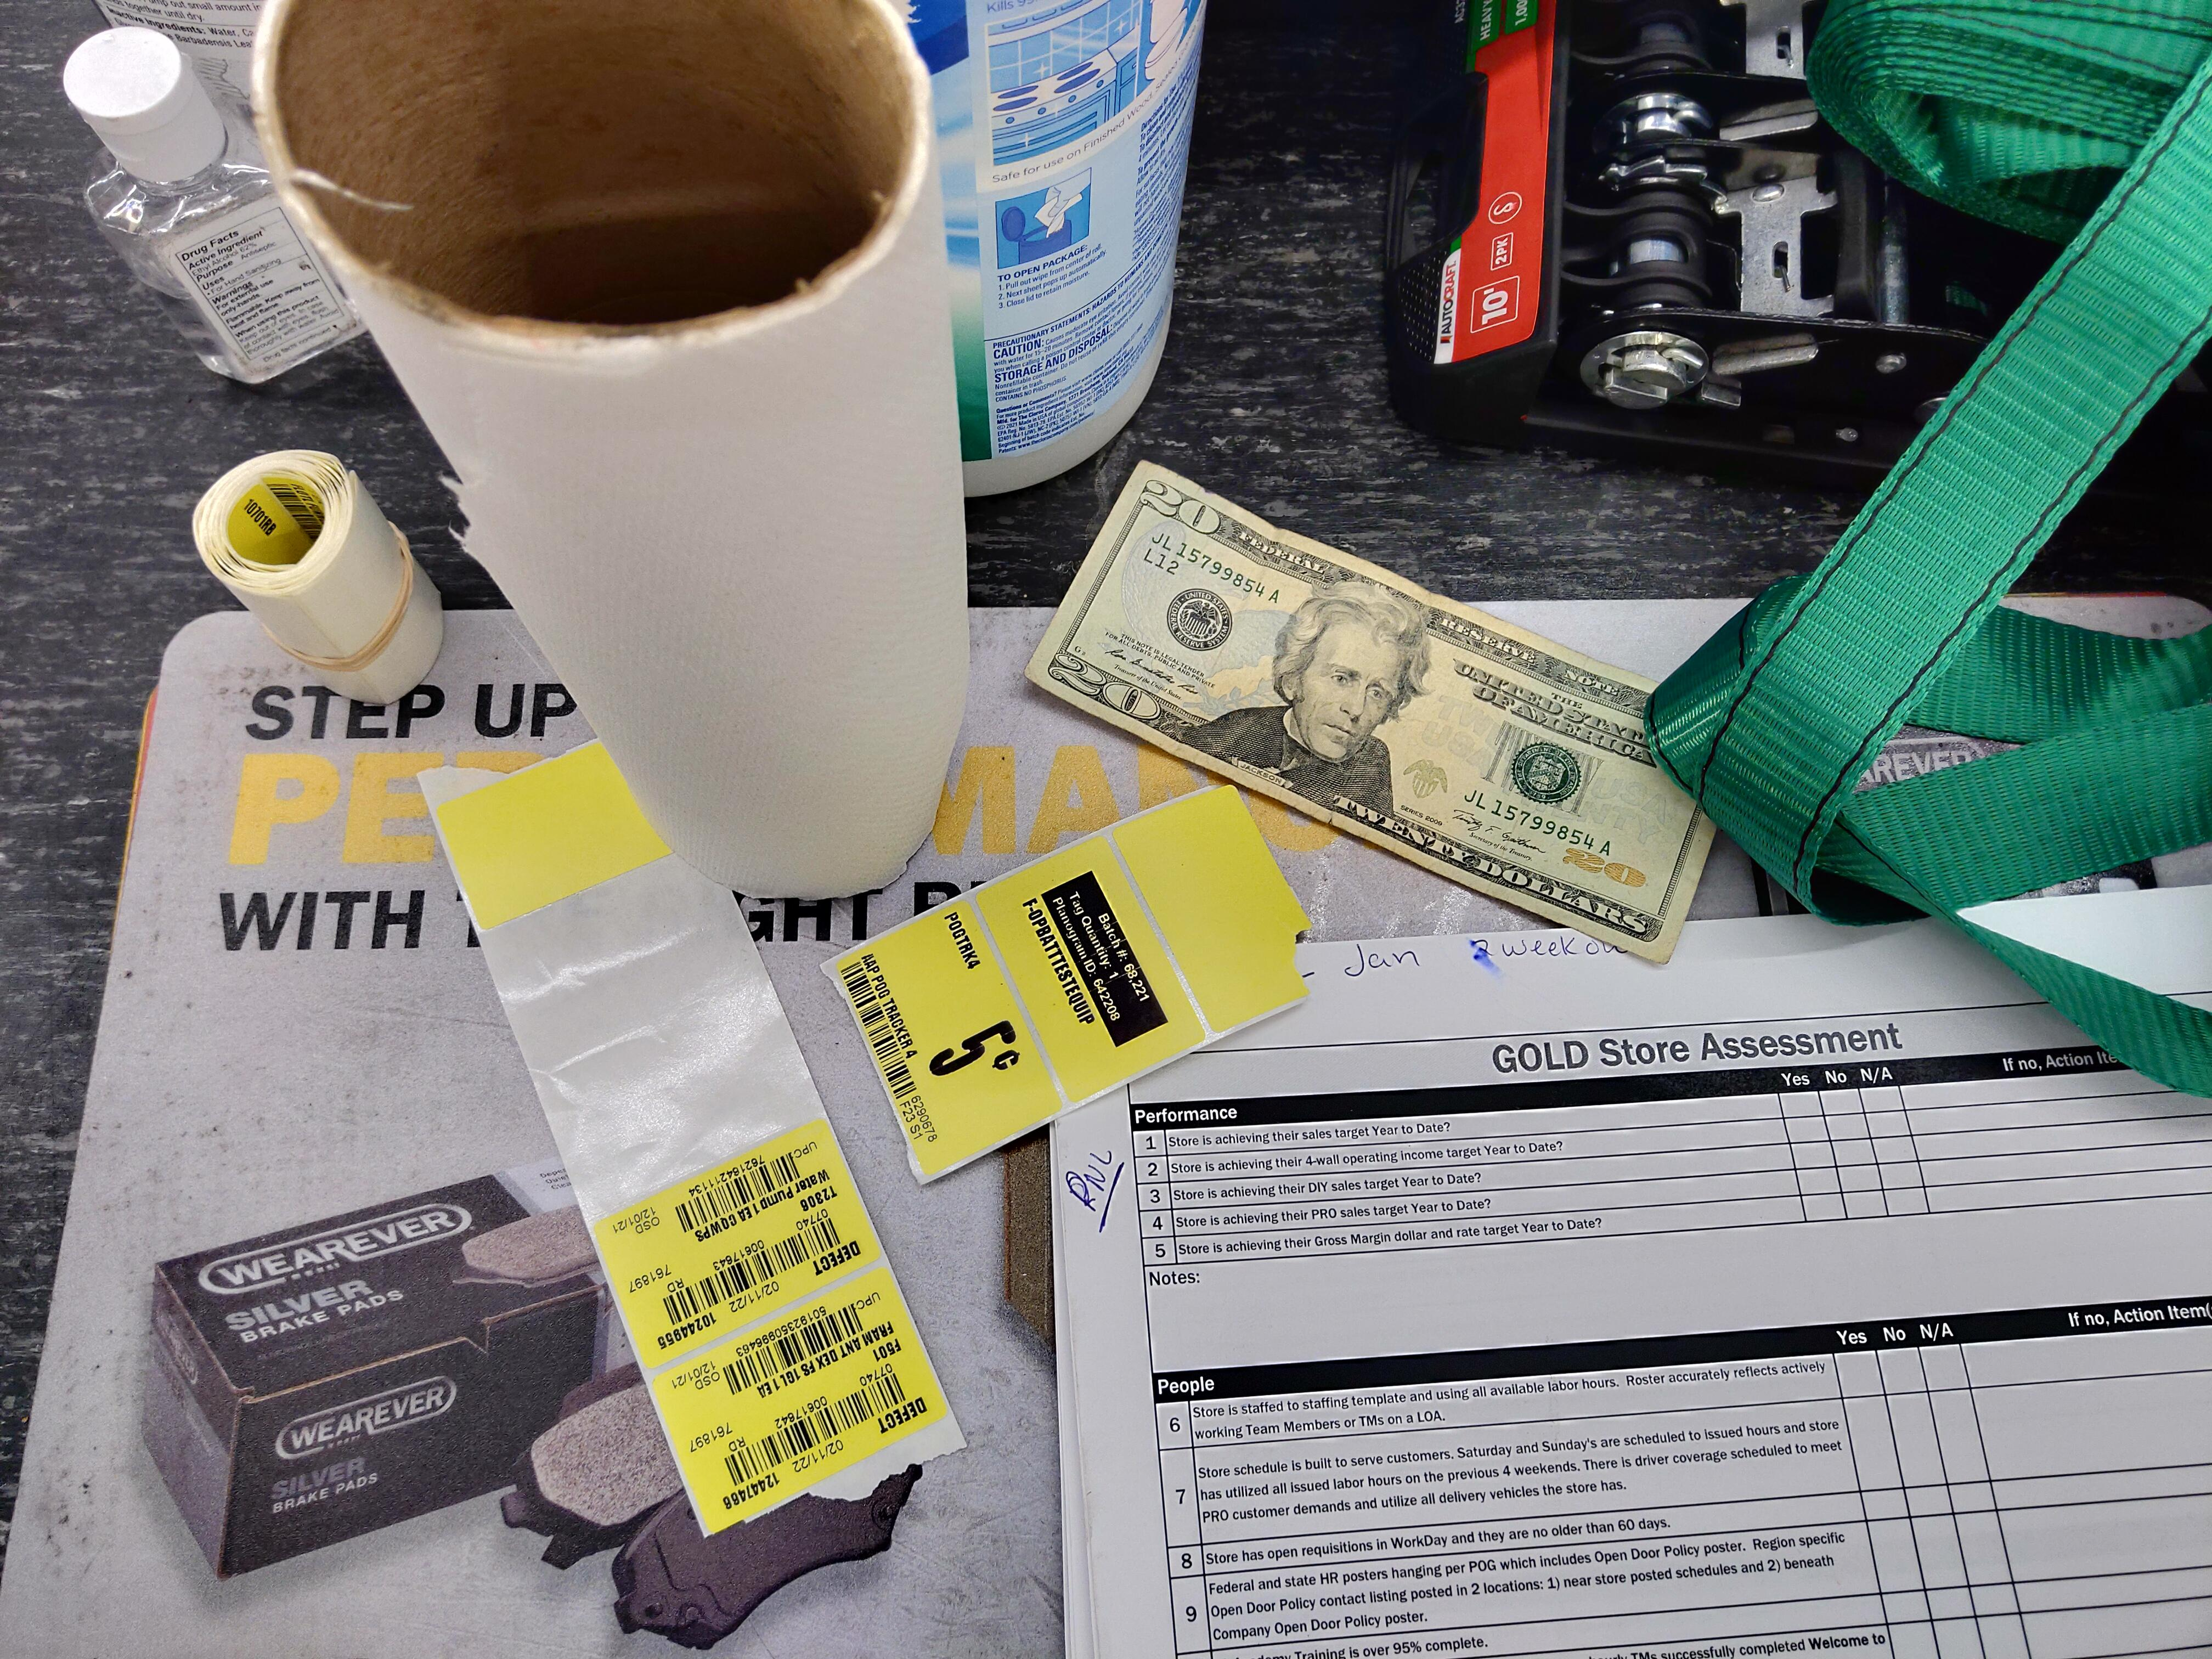TwentyBill: (1022, 462, 1723, 967)
